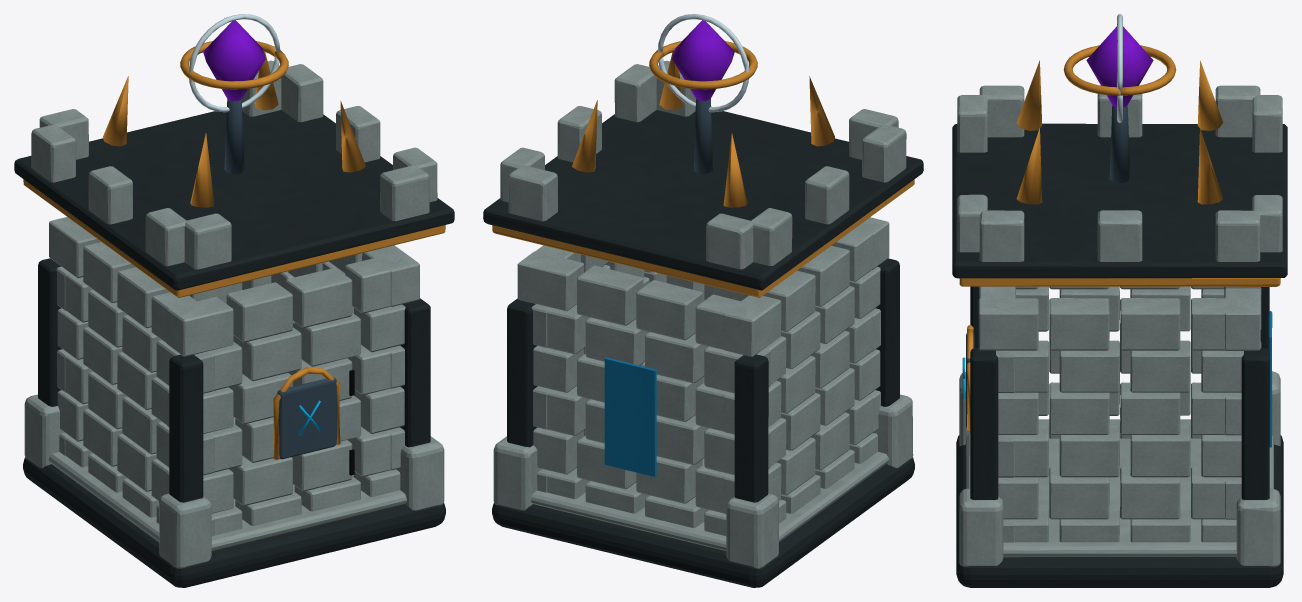
Rendered from SM_tower_core_LOD2.fbx.
3 renders of one model, left to right at view 1: azimuth 30°, elevation 25°; view 2: azimuth 150°, elevation 25°; view 3: azimuth 270°, elevation 25°, orthographic. The views are drawn at different scales.
Parts seen in each view (by area): view 1: SM_tower_core_LOD2; view 2: SM_tower_core_LOD2; view 3: SM_tower_core_LOD2.
Part boxes in pixels (x1,y1,x2,y2): SM_tower_core_LOD2: [14, 14, 454, 587]; SM_tower_core_LOD2: [483, 14, 923, 587]; SM_tower_core_LOD2: [952, 14, 1287, 587].
Size of the model in its own units: 2.59 by 2.59 by 4.3.
